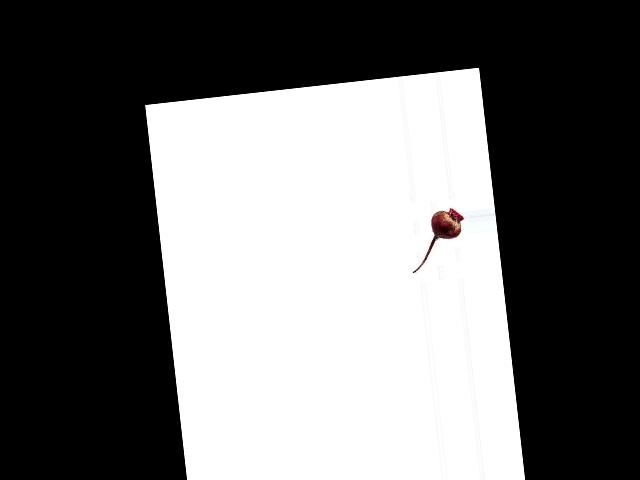beet: (406, 207, 469, 273)
